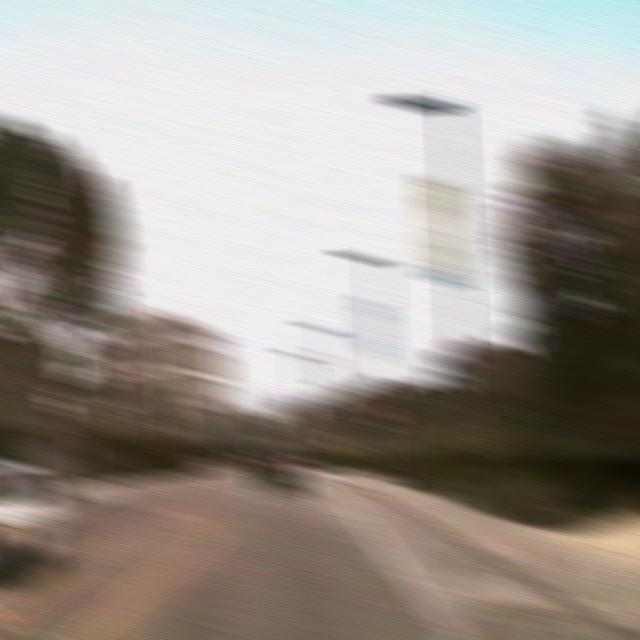stop_sign: (368, 400, 399, 427)
